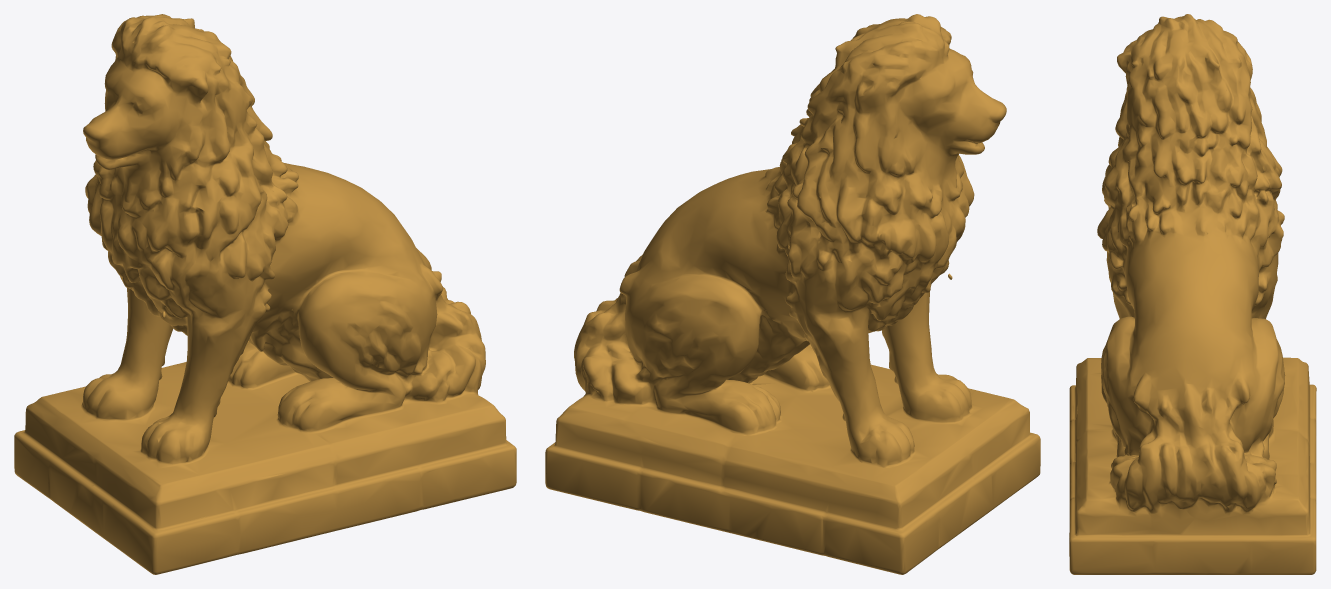
The model's file is dog.glb.
The picture shows the model from 3 angles, left to right: view 1: azimuth 30°, elevation 25°; view 2: azimuth 150°, elevation 25°; view 3: azimuth 270°, elevation 25°; orthographic projection. The views are drawn at different scales.
Parts seen in each view (by area): view 1: dog - original generated mesh; view 2: dog - original generated mesh; view 3: dog - original generated mesh.
Part boxes in pixels (box(x1,y1,x2,y2)): dog - original generated mesh: box(14, 14, 516, 574); dog - original generated mesh: box(545, 14, 1040, 574); dog - original generated mesh: box(1069, 14, 1316, 574).
Size of the model in its own units: 2.24 by 2.7 by 1.4.
